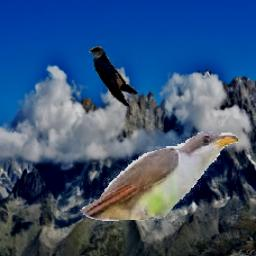Cuckoo: (79, 133, 239, 230)
Swallow: (90, 47, 154, 110)
